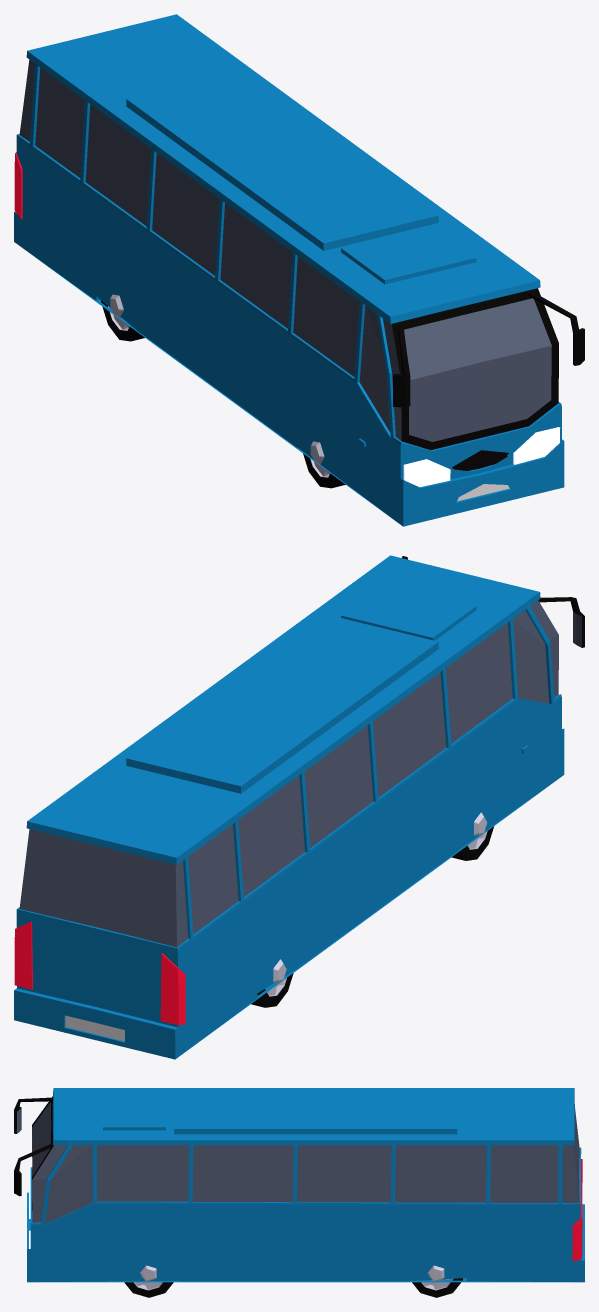
The model's file is bus.glb.
3 renders of one model, top to bottom at view 1: azimuth 30°, elevation 25°; view 2: azimuth 150°, elevation 25°; view 3: azimuth 270°, elevation 25°, orthographic. The views are drawn at different scales.
Visible parts, largest first — view 1: Bus, Bus wheel rear right, Bus wheel front right; view 2: Bus, Bus wheel rear right, Bus wheel front right; view 3: Bus, Bus wheel rear left, Bus wheel front left.
Boxes of the visible parts, bbox=[...] form: Bus: bbox=[14, 14, 584, 526]; Bus wheel rear right: bbox=[101, 294, 144, 341]; Bus wheel front right: bbox=[303, 441, 345, 488]; Bus: bbox=[14, 555, 584, 1059]; Bus wheel rear right: bbox=[251, 959, 293, 1007]; Bus wheel front right: bbox=[451, 812, 494, 860]; Bus: bbox=[14, 1088, 584, 1282]; Bus wheel rear left: bbox=[412, 1265, 462, 1297]; Bus wheel front left: bbox=[124, 1265, 173, 1297].
Size of the model in its own units: 3.81 by 4.27 by 13.7.
